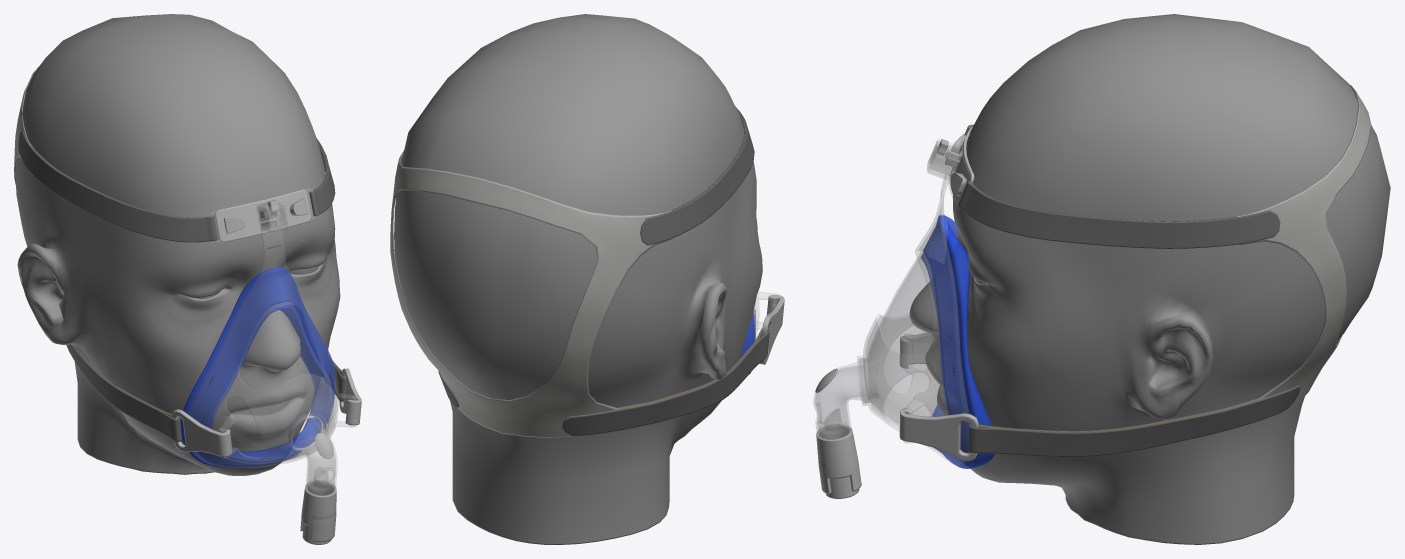
The model's file is 3Dmask.gltf.
The picture shows the model from 3 angles, left to right: view 1: azimuth 30°, elevation 25°; view 2: azimuth 150°, elevation 25°; view 3: azimuth 270°, elevation 25°; orthographic projection. The views are drawn at different scales.
Visible parts, largest first — view 1: headmanequin, MaskAcryl2, maskbody1; view 2: headmanequin, maskbody1, MaskAcryl2; view 3: headmanequin, maskbody1, MaskAcryl2.
Part boxes in pixels (x1,y1,x2,y2): headmanequin: [15, 14, 340, 475]; MaskAcryl2: [181, 188, 358, 495]; maskbody1: [14, 67, 361, 544]; headmanequin: [394, 14, 762, 544]; maskbody1: [390, 106, 784, 437]; MaskAcryl2: [741, 292, 781, 356]; headmanequin: [909, 14, 1390, 544]; maskbody1: [815, 85, 1371, 498]; MaskAcryl2: [813, 123, 994, 468].
Size of the model in its own units: 16.55 by 22.79 by 25.68.
